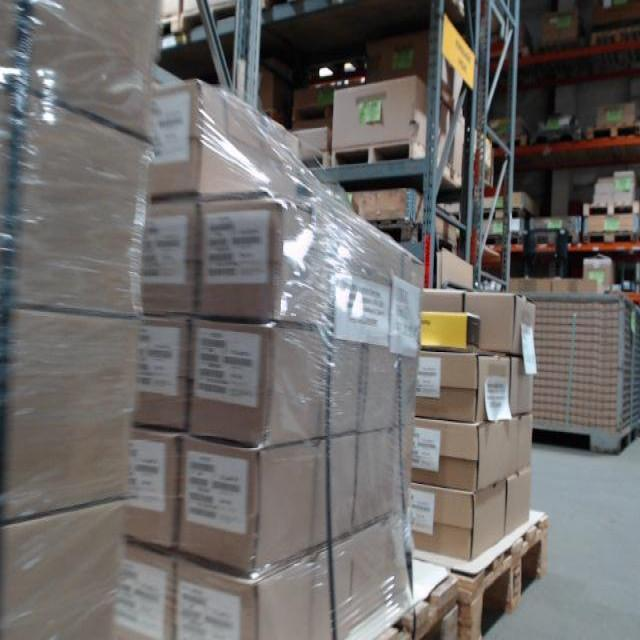pallet: (460, 514, 554, 640), (330, 139, 461, 190), (377, 567, 465, 640), (368, 218, 458, 255), (180, 0, 237, 33), (591, 23, 640, 50), (586, 120, 640, 143), (288, 97, 334, 122), (530, 126, 583, 147), (582, 199, 639, 218), (536, 38, 586, 58), (582, 230, 637, 245), (531, 231, 582, 246), (476, 207, 525, 221), (482, 232, 526, 246), (489, 134, 527, 150)
stillage: (489, 279, 640, 460)
